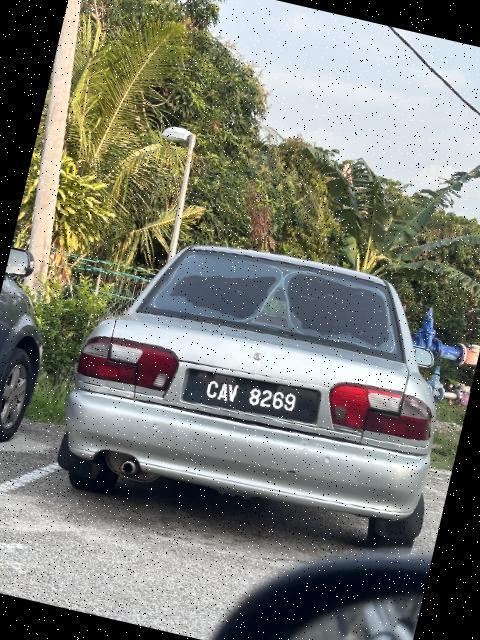License_Plate: (182, 362, 320, 431)
car: (46, 210, 480, 578)
cav8269: (182, 362, 320, 431)
